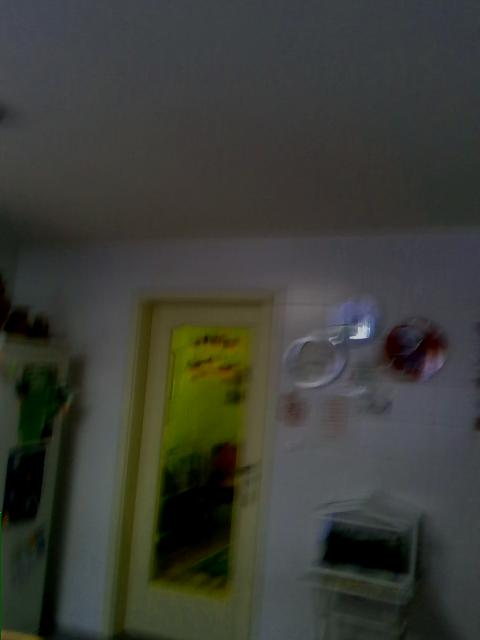closed_door: (98, 287, 281, 639)
